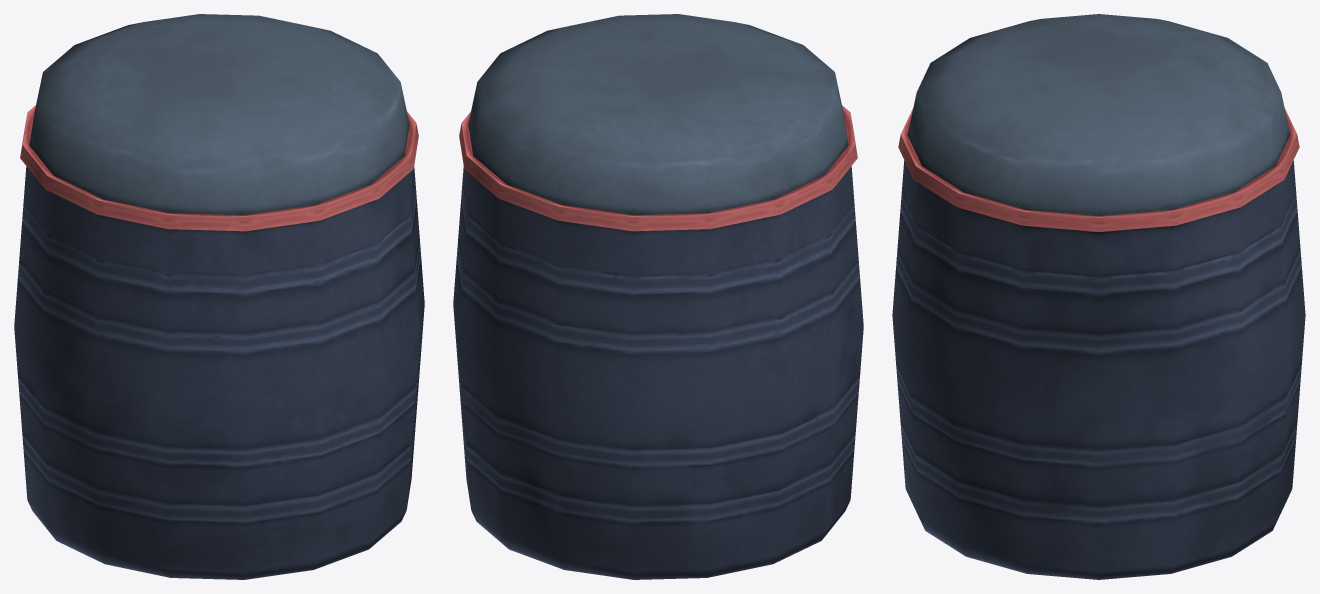
File: Tank.fbx
3 views of the same model, side by side, from view 1: azimuth 30°, elevation 25°; view 2: azimuth 150°, elevation 25°; view 3: azimuth 270°, elevation 25° (orthographic).
Parts seen in each view (by area): view 1: Tank_LP; view 2: Tank_LP; view 3: Tank_LP.
Part boxes in pixels (box(x1,y1,x2,y2)): Tank_LP: box(14, 14, 424, 579); Tank_LP: box(453, 14, 863, 579); Tank_LP: box(892, 14, 1305, 579).
Bounding box in the file's own units: 478 × 557 × 478.
